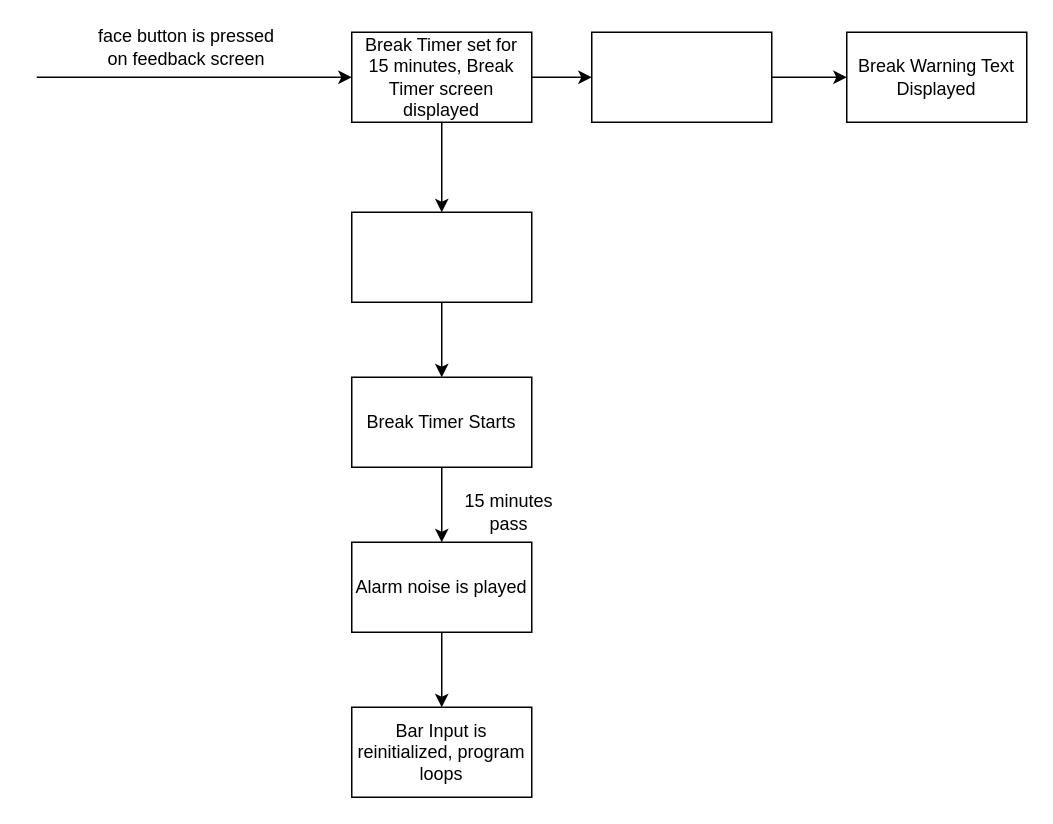
The diagram is 1053 pixels wide and 824 high, and some of its shapes have lost their labels. The box of each missing label's shape, as (x1, y1, x2, y2) in pixels:
Break Timer Displayed: (350, 211, 532, 302)
Timer from Input Bar Displayed: (590, 31, 772, 122)
